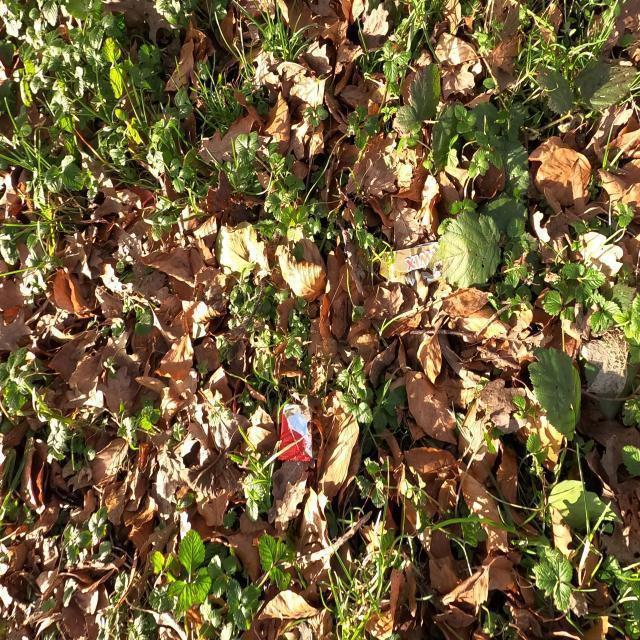Plastic: (379, 242, 444, 288), (278, 403, 313, 461)
